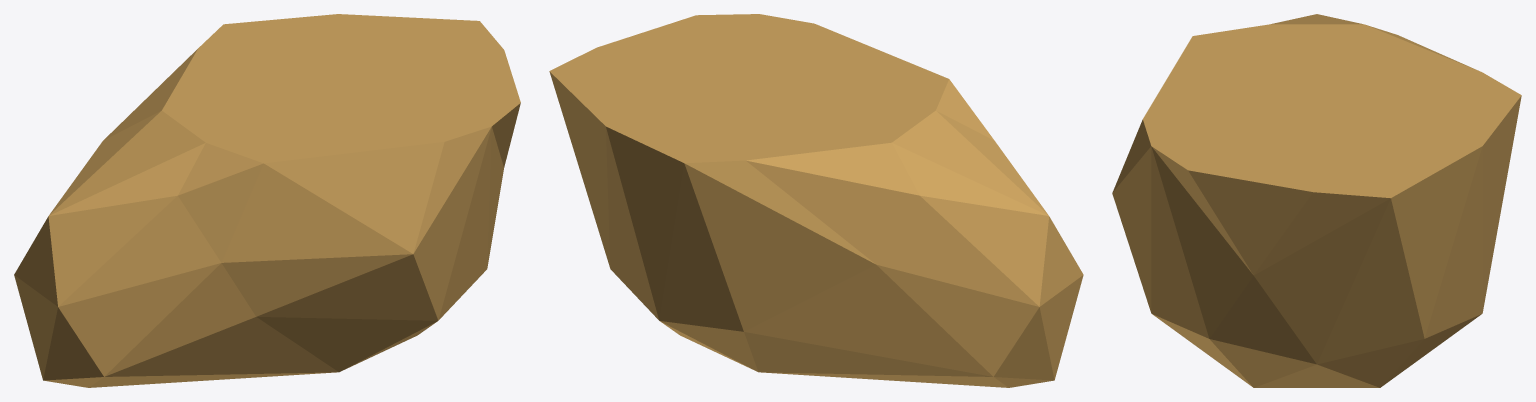
Rendered from platform-04.fbx.
3 renders of one model, left to right at view 1: azimuth 30°, elevation 25°; view 2: azimuth 150°, elevation 25°; view 3: azimuth 270°, elevation 25°, orthographic. The views are drawn at different scales.
Visible parts, largest first — view 1: platform04; view 2: platform04; view 3: platform04.
Part boxes in pixels (x1=…): platform04: x1=14, y1=14, x2=520, y2=387; platform04: x1=549, y1=14, x2=1083, y2=387; platform04: x1=1112, y1=14, x2=1521, y2=387.
Bounding box in the file's own units: 387 × 204 × 266.
